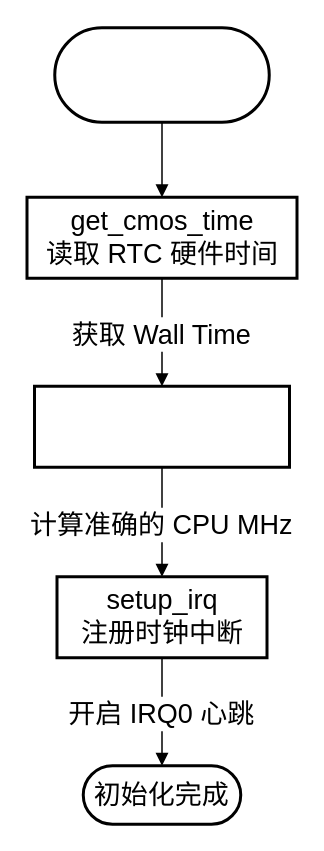
The diagram is 324 pixels wide and 851 high, and some of its shapes have lost their labels. The box of each missing label's shape, as (x1, y1, x2, y2) in pixels:
calibrate_tsc 校准 CPU 频率: (32, 384, 290, 468)
time_init 时钟初始化入口: (52, 26, 270, 123)
